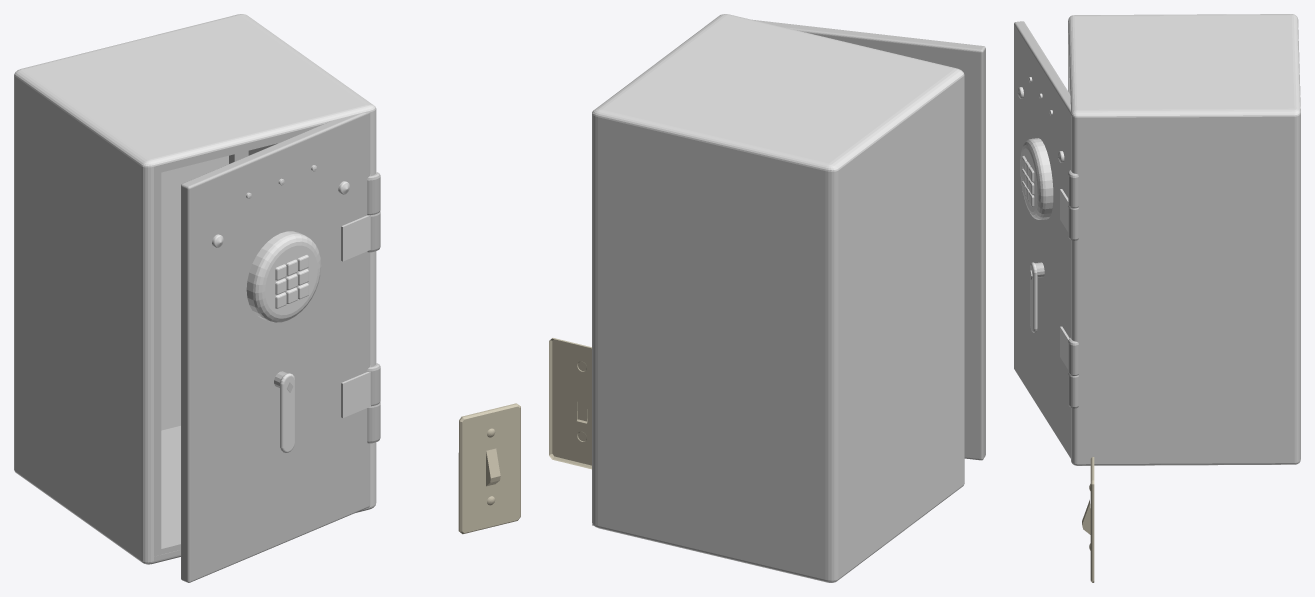
File: switch+safe.fbx
3 views of the same model, side by side, from view 1: azimuth 30°, elevation 25°; view 2: azimuth 150°, elevation 25°; view 3: azimuth 270°, elevation 25° (orthographic). The views are drawn at different scales.
Parts seen in each view (by area): view 1: safe_cox, safe_door, switch; view 2: safe_cox, safe_door, switch; view 3: safe_cox, safe_door, switch.
Part boxes in pixels (left/top/right/bottom): safe_cox: left=14, top=14, right=380, bottom=564; safe_door: left=181, top=112, right=371, bottom=582; switch: left=458, top=403, right=520, bottom=534; safe_cox: left=592, top=14, right=964, bottom=582; safe_door: left=752, top=19, right=985, bottom=460; switch: left=549, top=338, right=591, bottom=469; safe_cox: left=1068, top=14, right=1300, bottom=465; safe_door: left=1014, top=21, right=1070, bottom=458; switch: left=1082, top=457, right=1094, bottom=582.
Size of the model in its own units: 159 by 178 by 114.
